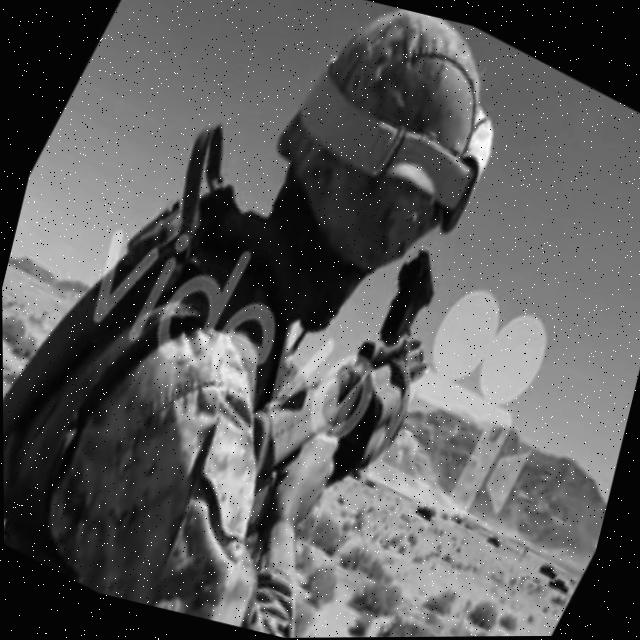rocket: (210, 207, 479, 558)
